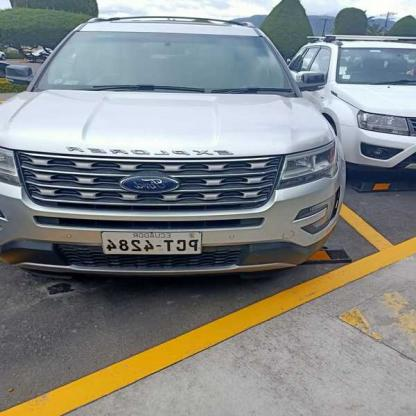Placa: (100, 226, 204, 261)
